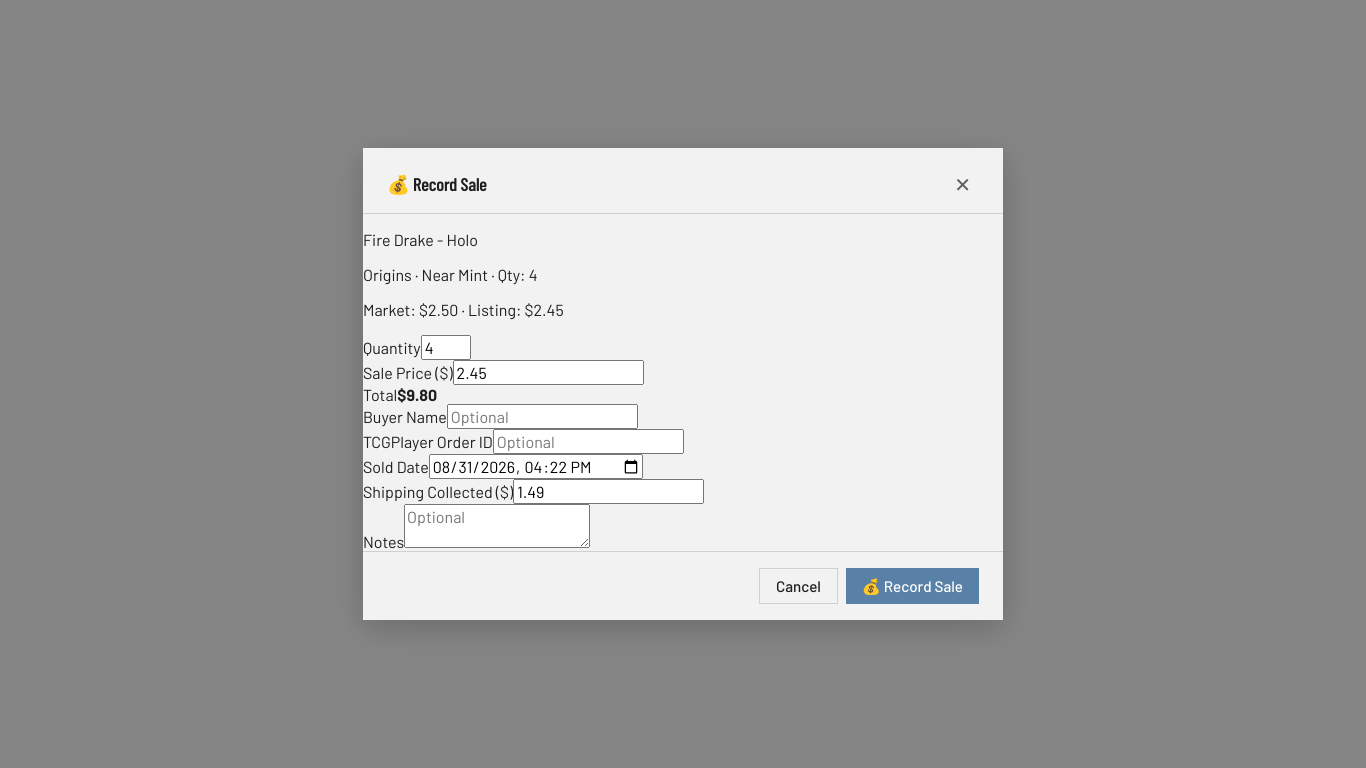
Test: RecordSaleModal › shows loading state during submission
Click the button "💰 Record Sale".
click(912, 586)  # box [846,568,979,604]
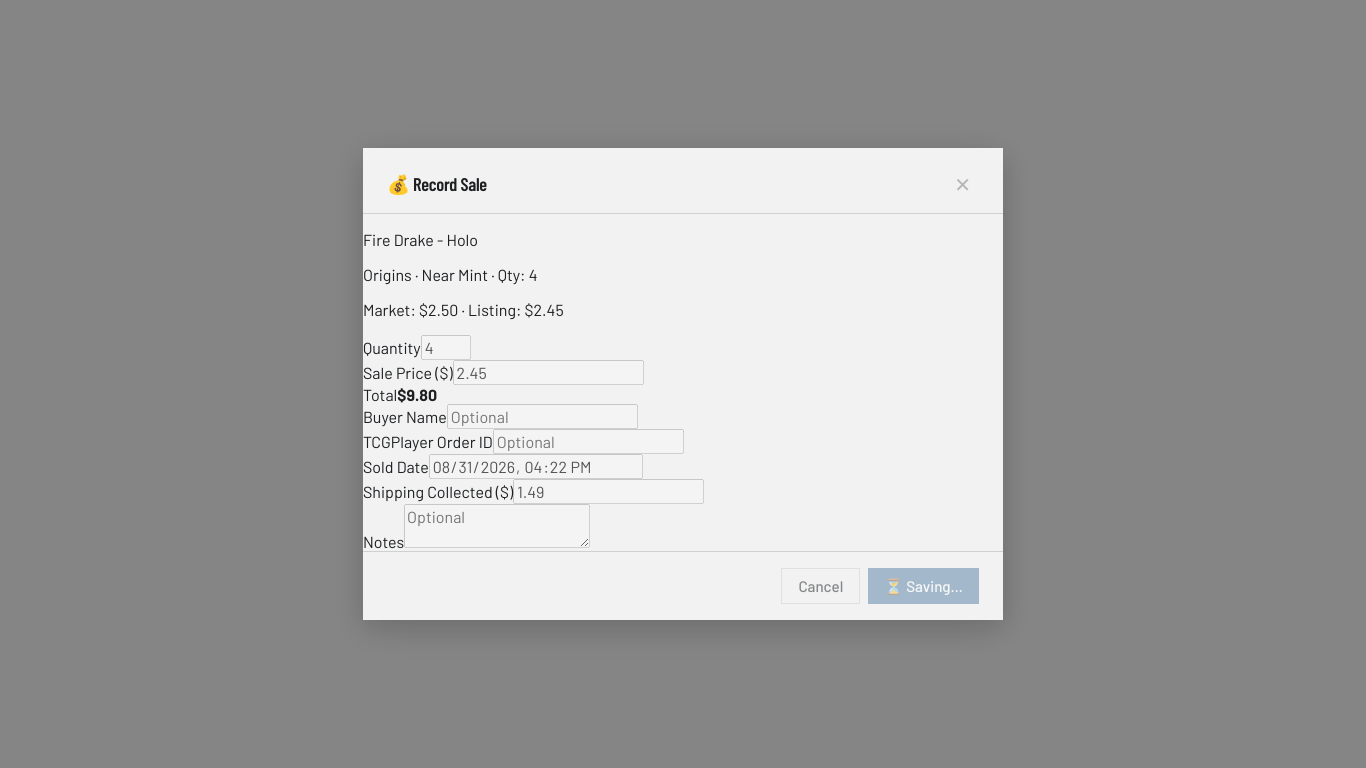
Check: the button "⏳ Saving…" is shown, box [868,568,979,604]
